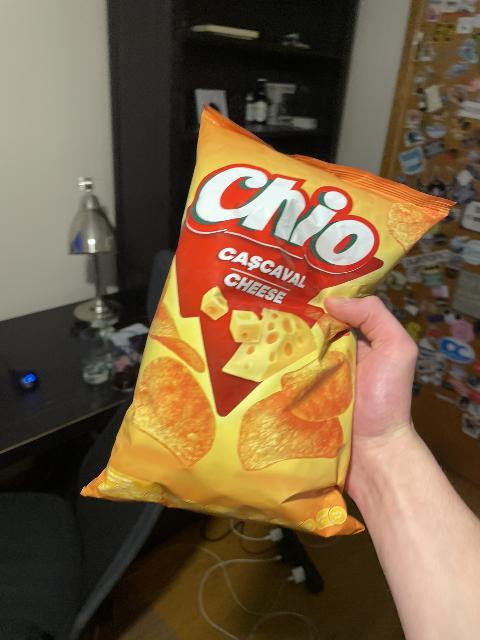Chio Cascaval 125g: (78, 104, 452, 532)
